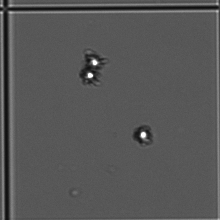Living Cell: (83, 53, 102, 68), (135, 126, 151, 142), (82, 67, 98, 81)
